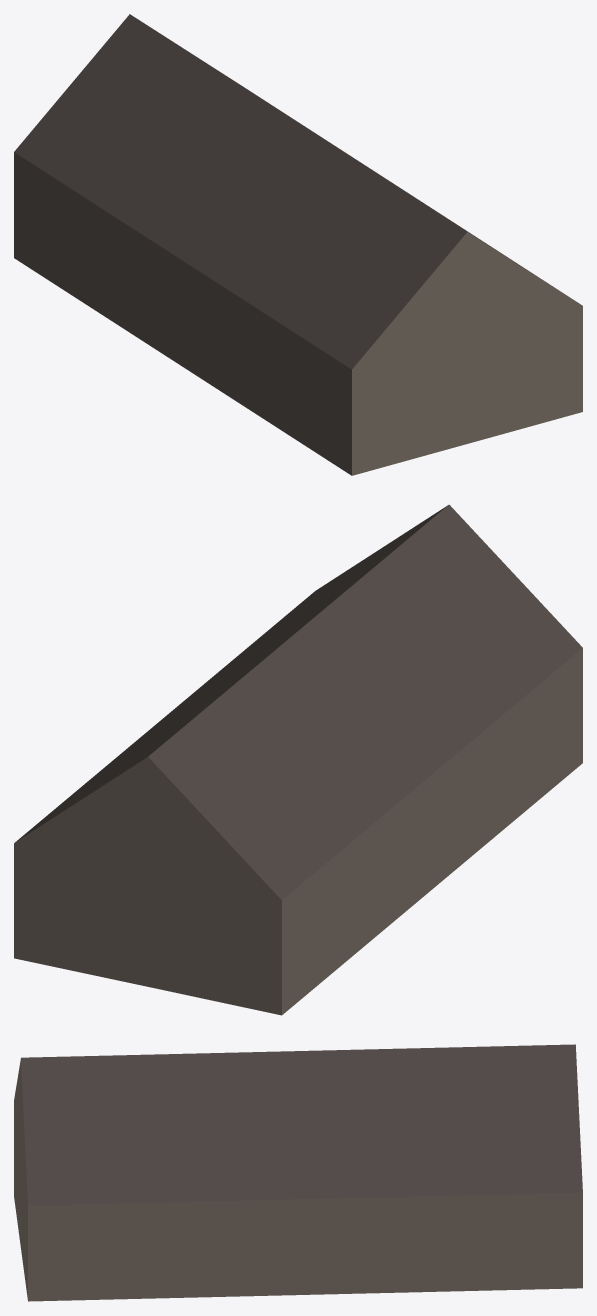
The picture shows the model from 3 angles, top to bottom: view 1: azimuth 30°, elevation 25°; view 2: azimuth 150°, elevation 25°; view 3: azimuth 270°, elevation 25°; orthographic projection. The views are drawn at different scales.
Parts seen in each view (by area): view 1: HP-w428179910; view 2: HP-w428179910; view 3: HP-w428179910.
Boxes of the visible parts, x1=… form: HP-w428179910: x1=14, y1=14, x2=582, y2=475; HP-w428179910: x1=14, y1=504, x2=582, y2=1015; HP-w428179910: x1=14, y1=1044, x2=582, y2=1301.
Bounding box in the file's own units: 7.97 × 6 × 16.18.
